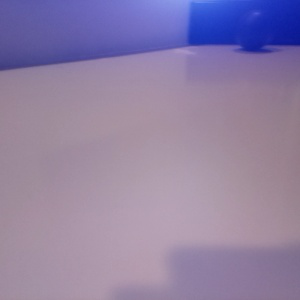dead_ball: (236, 10, 270, 50)
